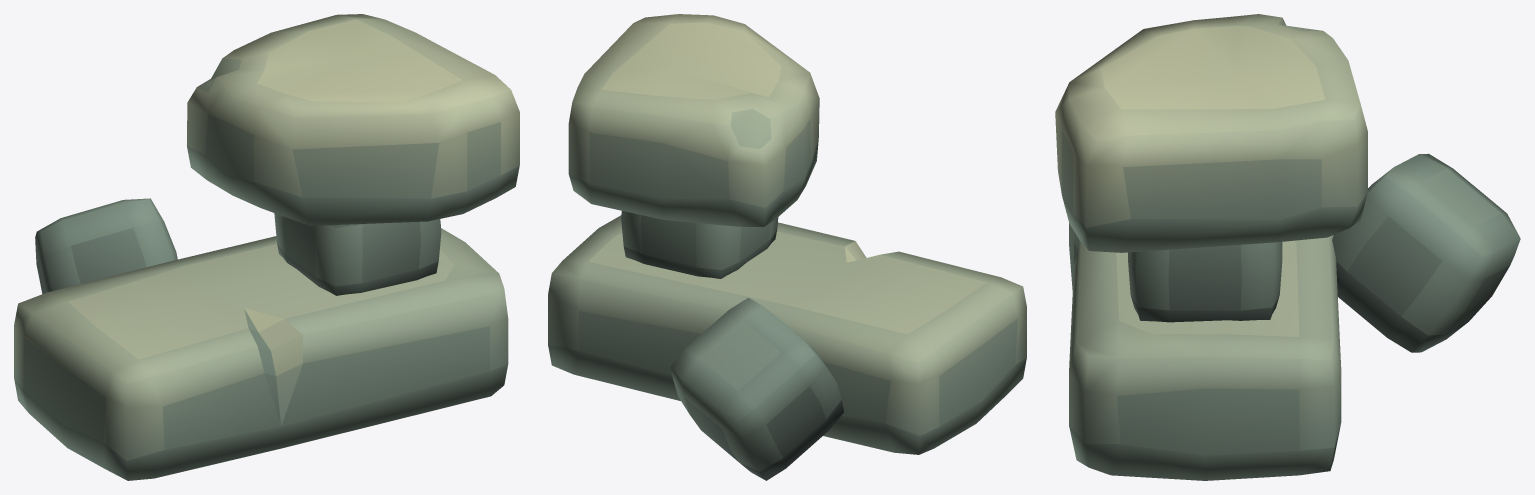
Rendered from rail3_stone1_LOD_group.fbx.
3 renders of one model, left to right at view 1: azimuth 30°, elevation 25°; view 2: azimuth 150°, elevation 25°; view 3: azimuth 270°, elevation 25°, orthographic. The views are drawn at different scales.
Visible parts, largest first — view 1: rail3_stone1_LOD0; view 2: rail3_stone1_LOD0; view 3: rail3_stone1_LOD0.
Part boxes in pixels (x1,y1,x2,y2): rail3_stone1_LOD0: (14,14,519,480); rail3_stone1_LOD0: (548,14,1026,480); rail3_stone1_LOD0: (1055,14,1520,480).
Size of what is drawn, in the model's own units: 109 by 81.78 by 94.53.
Materials: 1 (1 with a texture image).
